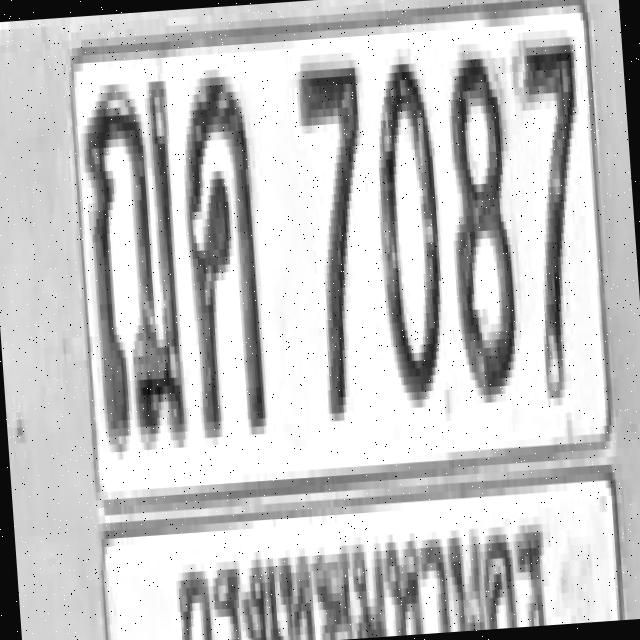0: (368, 51, 450, 404)
13KhorKhwai: (176, 67, 270, 438)
21ChorChoe: (77, 73, 192, 453)
7: (294, 55, 380, 418), (516, 36, 598, 398)
8: (440, 46, 522, 400)
